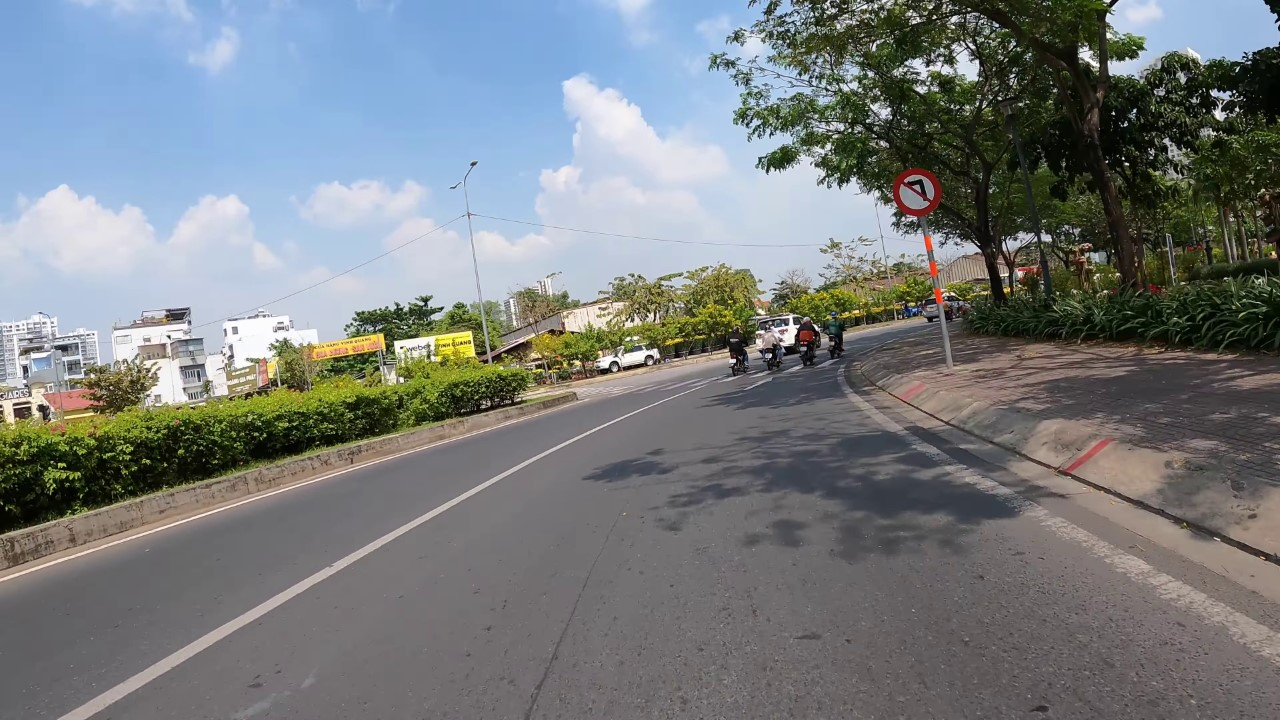cam_re_trai: (889, 166, 943, 218)
